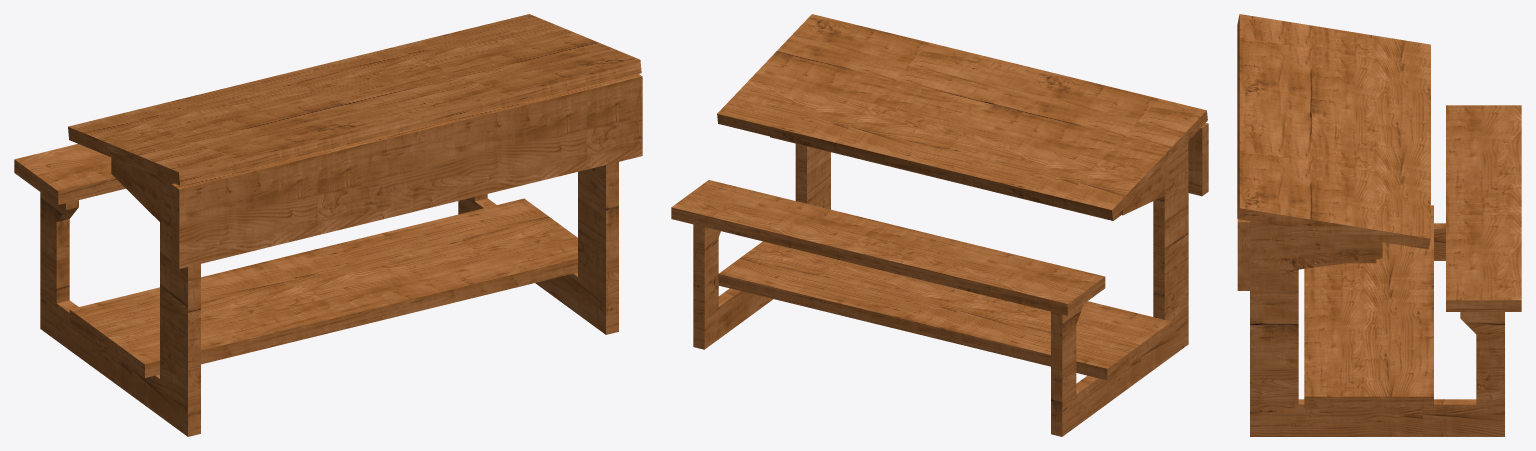
The model's file is table_01.fbx.
The picture shows the model from 3 angles, left to right: view 1: azimuth 30°, elevation 25°; view 2: azimuth 150°, elevation 25°; view 3: azimuth 270°, elevation 25°; orthographic projection. The views are drawn at different scales.
Visible parts, largest first — view 1: table_01; view 2: table_01; view 3: table_01.
Part boxes in pixels (x1,y1,x2,y2): table_01: (14, 14, 642, 436); table_01: (671, 14, 1208, 436); table_01: (1237, 14, 1521, 436).
Bounding box in the file's own units: 106 × 59.87 × 65.55.
